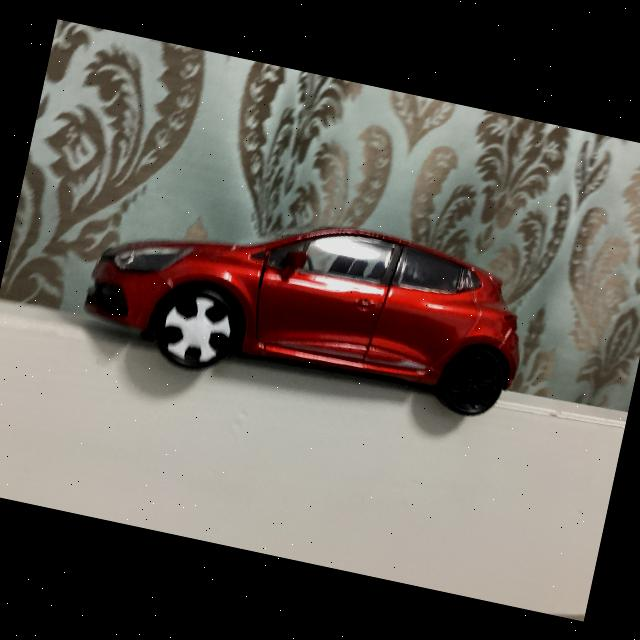Dogru_Jant: (444, 350, 503, 413)
Yanlis_Jant: (155, 288, 236, 371)
